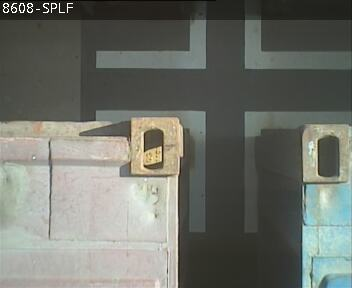groundmarker_1: (95, 111, 350, 235), (97, 1, 352, 67)
